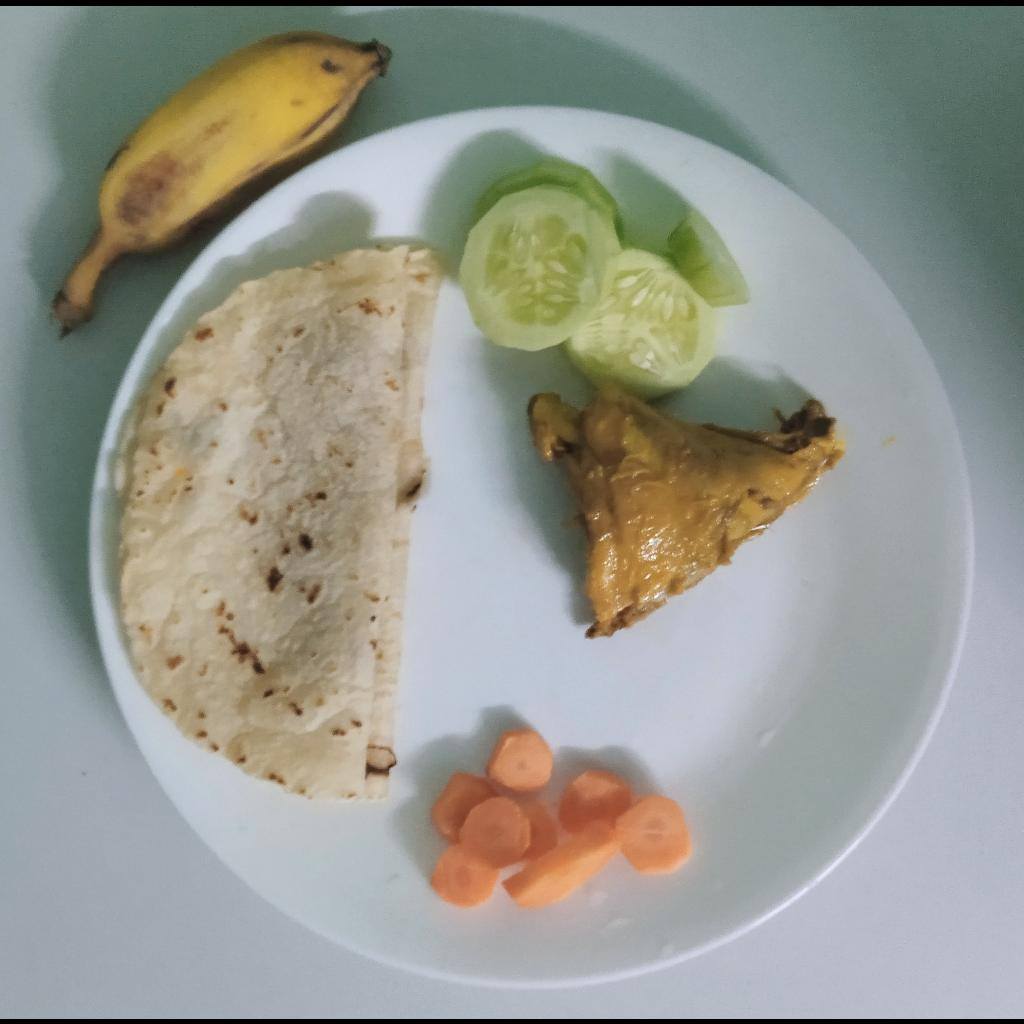banana: (48, 29, 392, 341)
carrot: (430, 728, 691, 908)
chicken: (527, 380, 846, 640)
cucumber: (457, 157, 751, 400)
ruti: (115, 245, 451, 801)
